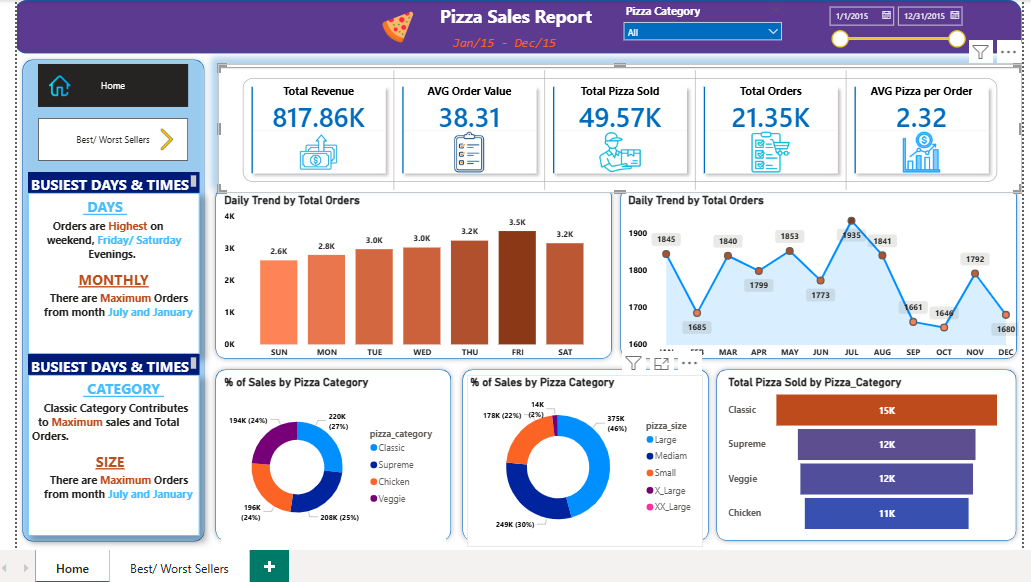

This screenshot's page, from the dashboard's own definition file:
{"tool":"powerbi","page":{"name":"Home","canvas":[1500,820],"ordinal":0},"visuals":[{"type":"shape","box":[0,80,288,736],"z":0},{"type":"cardVisual","fields":{"Data":["pizza_sales.Total Revenue","pizza_sales.AVG Order Value","pizza_sales.Total Pizza Sold","pizza_sales.Total Orders","pizza_sales.AVG Pizza per Order"]},"box":[300,96,1200,192],"z":1000},{"type":"shape","box":[-4,0,1504,80],"z":2000},{"type":"textbox","box":[592,0,304,48],"z":3000},{"type":"textbox","box":[608,48,240,32],"z":4000},{"type":"image","box":[528,16,80,48],"z":5000},{"type":"shape","box":[288,272,608,272],"z":6000},{"type":"columnChart","title":"Daily Trend by Total Orders ","fields":{"Category":["pizza_sales.Order Day"],"Y":["pizza_sales.Total Orders"]},"box":[304,288,576,256],"z":7000},{"type":"shape","box":[892,272,608,272],"z":8000},{"type":"areaChart","title":"Daily Trend by Total Orders ","fields":{"Category":["pizza_sales.Month Name1"],"Y":["pizza_sales.Total Orders"]},"box":[908,288,592,256],"z":9000},{"type":"shape","box":[288,544,368,272],"z":10000},{"type":"shape","box":[1036,544,464,272],"z":11000},{"type":"shape","box":[656,544,384,272],"z":12000},{"type":"donutChart","title":"% of Sales by Pizza Category","fields":{"Category":["pizza_sales.pizza_category"],"Y":["pizza_sales.Total Revenue"]},"box":[304,560,336,256],"z":13000},{"type":"donutChart","title":"% of Sales by Pizza Category","fields":{"Category":["pizza_sales.pizza_size"],"Y":["pizza_sales.Total Revenue"]},"box":[672,560,352,256],"z":14000},{"type":"funnel","title":"Total Pizza Sold by Pizza_Category","fields":{"Category":["pizza_sales.pizza_category"],"Y":["pizza_sales.Total Pizza Sold"]},"box":[1056,560,416,240],"z":15000},{"type":"textbox","box":[16,256,256,32],"z":16000},{"type":"textbox","box":[16,288,256,240],"z":17000},{"type":"textbox","box":[16,528,256,32],"z":18000},{"type":"textbox","box":[16,560,256,240],"z":19000},{"type":"slicer","fields":{"Values":["pizza_sales.pizza_category"]},"box":[896,0,256,80],"z":20000},{"type":"slicer","fields":{"Values":["pizza_sales.order_date"]},"box":[1200,0,224,96],"z":21000},{"type":"pageNavigator","box":[32,96,224,64],"z":22000},{"type":"image","box":[224,176,32,64],"z":23000},{"type":"pageNavigator","box":[32,176,224,64],"z":24000},{"type":"image","box":[48,112,32,32],"z":25000},{"type":"image","box":[208,176,32,64],"z":26000}]}

Visuals, with their boxes on the page's 1500x820 design canvas (x1, y1, x2, y2). These are canvas units, not pixel positions in the 1031x582 screenshot, which may show the page scaled, cropped or inside an application window:
shape: (0, 80, 288, 816)
cardVisual - pizza_sales.Total Revenue x pizza_sales.AVG Order Value: (300, 96, 1500, 288)
shape: (-4, 0, 1500, 80)
textbox: (592, 0, 896, 48)
textbox: (608, 48, 848, 80)
image: (528, 16, 608, 64)
shape: (288, 272, 896, 544)
"Daily Trend by Total Orders " columnChart: (304, 288, 880, 544)
shape: (892, 272, 1500, 544)
"Daily Trend by Total Orders " areaChart: (908, 288, 1500, 544)
shape: (288, 544, 656, 816)
shape: (1036, 544, 1500, 816)
shape: (656, 544, 1040, 816)
"% of Sales by Pizza Category" donutChart: (304, 560, 640, 816)
"% of Sales by Pizza Category" donutChart: (672, 560, 1024, 816)
"Total Pizza Sold by Pizza_Category" funnel: (1056, 560, 1472, 800)
textbox: (16, 256, 272, 288)
textbox: (16, 288, 272, 528)
textbox: (16, 528, 272, 560)
textbox: (16, 560, 272, 800)
slicer - pizza_sales.pizza_category: (896, 0, 1152, 80)
slicer - pizza_sales.order_date: (1200, 0, 1424, 96)
pageNavigator: (32, 96, 256, 160)
image: (224, 176, 256, 240)
pageNavigator: (32, 176, 256, 240)
image: (48, 112, 80, 144)
image: (208, 176, 240, 240)
